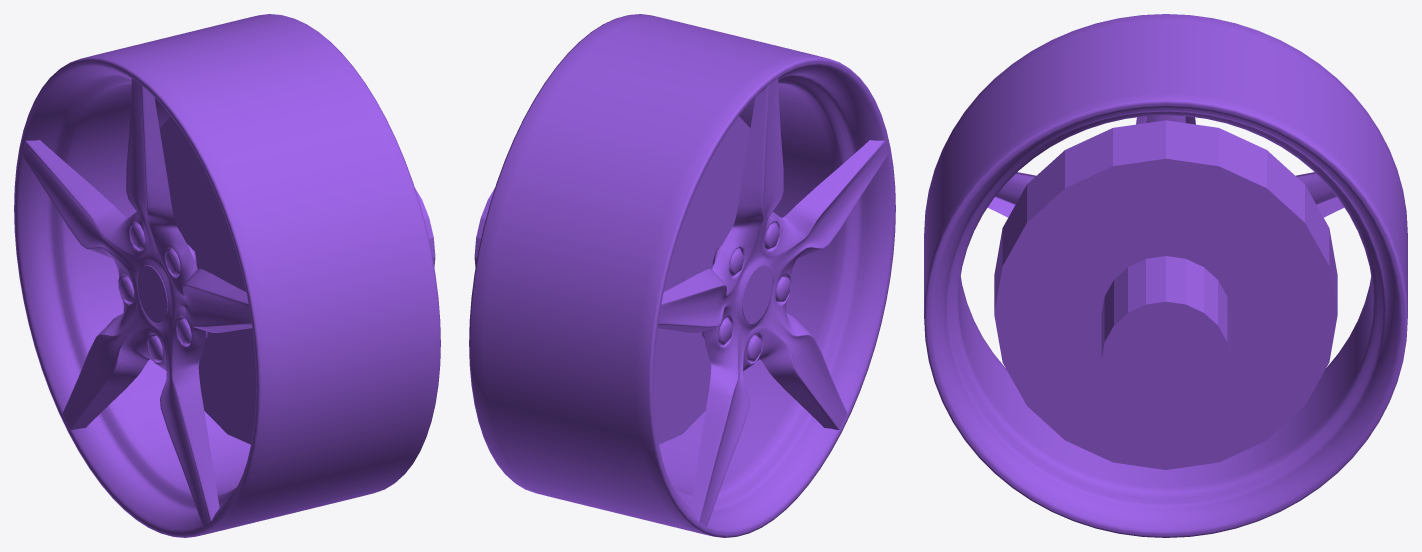
File: Ring.fbx
3 views of the same model, side by side, from view 1: azimuth 30°, elevation 25°; view 2: azimuth 150°, elevation 25°; view 3: azimuth 270°, elevation 25° (orthographic).
Parts seen in each view (by area): view 1: Ring; view 2: Ring; view 3: Ring.
Boxes of the visible parts, <box> form: Ring: <box>14,14,440,537</box>; Ring: <box>469,14,895,537</box>; Ring: <box>924,14,1407,537</box>.
Size of the model in its own units: 100 by 160 by 160.
